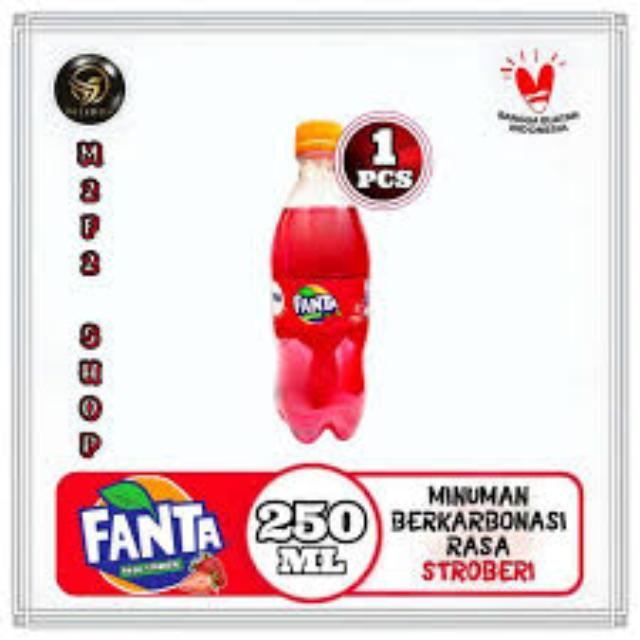trash: (266, 117, 372, 445)
